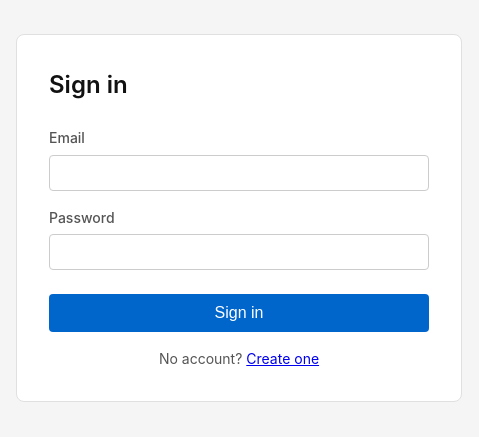
it: LoginPage › shows client-side validation error for bad email
Type "not-an-email" into the field labelled "Email" at (239, 172), box [49,154,429,190]
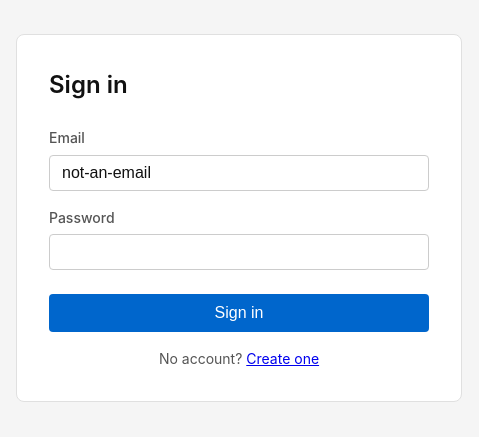
Type "password123" into the password field labelled "Password" at (239, 252), box [49,234,429,270]
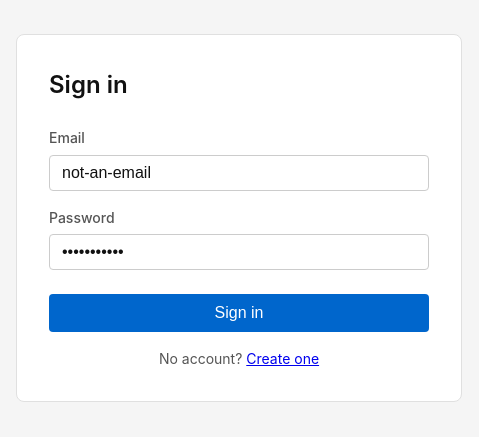
Click the button "Sign in" at (239, 313), box [49,294,429,332]
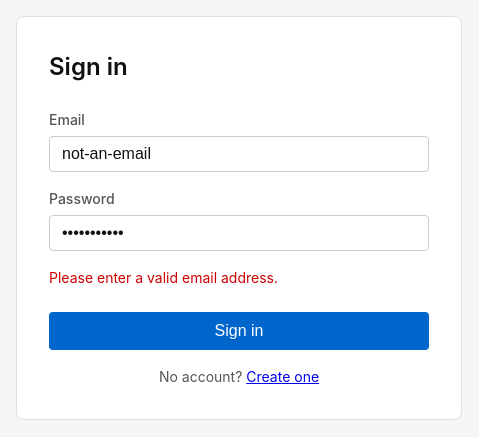
Expected: the text "Please enter a valid email address." is shown, [49,269,278,286]
